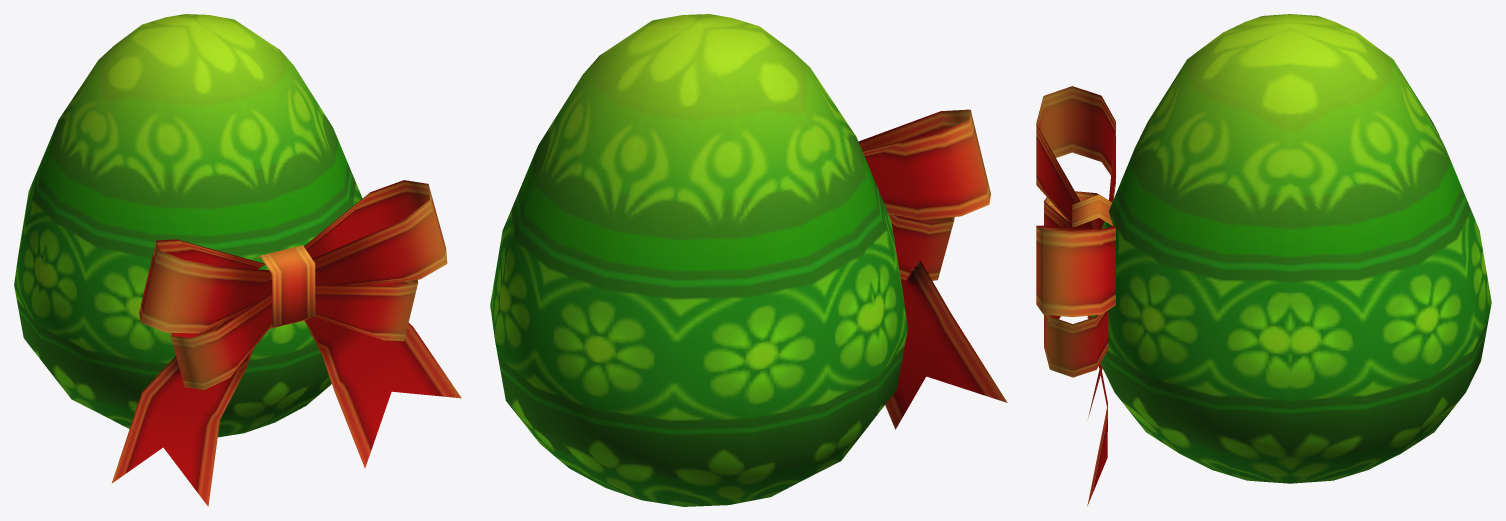
Rendered from Egg_03(HighPoly).FBX.
3 views of the same model, side by side, from view 1: azimuth 30°, elevation 25°; view 2: azimuth 150°, elevation 25°; view 3: azimuth 270°, elevation 25° (orthographic). The views are drawn at different scales.
Visible parts, largest first — view 1: Egg_03(HighPoly); view 2: Egg_03(HighPoly); view 3: Egg_03(HighPoly).
Boxes of the visible parts, x1,y1,x2,y2 form: Egg_03(HighPoly): (14,14,461,506); Egg_03(HighPoly): (490,14,1007,506); Egg_03(HighPoly): (1036,14,1491,505).
Bounding box in the file's own units: 0.5564 × 0.6031 × 0.5665.
